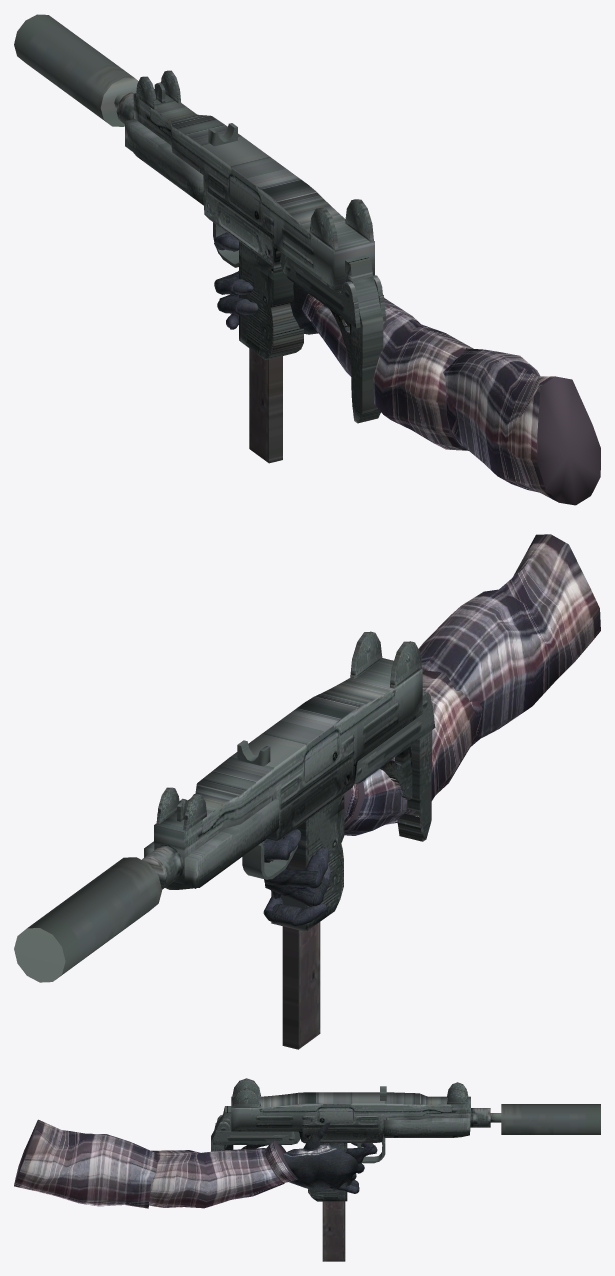
File: uzi_view.fbx
The picture shows the model from 3 angles, top to bottom: view 1: azimuth 30°, elevation 25°; view 2: azimuth 150°, elevation 25°; view 3: azimuth 270°, elevation 25°; orthographic projection. The views are drawn at different scales.
Parts seen in each view (by area): view 1: uzi_body, rupperarm, rforearm, uzi_silencer, uzi_grip, uzi_pad, uzi_clip, uzi_frontgrip, uzi_stocksupport, uzi_frontsight; view 2: uzi_body, rupperarm, uzi_silencer, rforearm, uzi_clip, uzi_frontgrip, uzi_grip, uzi_pad, uzi_stocksupport, uzi_frontsight, uzi_barrel, uzi_trigger (+2 smaller); view 3: uzi_body, rupperarm, rforearm, uzi_silencer, rhand, uzi_frontgrip, uzi_clip, uzi_stocksupport, uzi_grip, uzi_barrel, uzi_frontsight, rthumbback (+2 smaller).
Boxes of the visible parts, bbox=[...] form: uzi_body: bbox=[133, 89, 374, 292]; rupperarm: bbox=[443, 348, 600, 505]; rforearm: bbox=[302, 293, 473, 450]; uzi_silencer: bbox=[14, 14, 138, 126]; uzi_grip: bbox=[239, 241, 303, 360]; uzi_pad: bbox=[345, 255, 383, 423]; uzi_clip: bbox=[249, 348, 282, 463]; uzi_frontgrip: bbox=[125, 119, 203, 205]; uzi_stocksupport: bbox=[280, 253, 386, 328]; uzi_frontsight: bbox=[136, 70, 181, 109]; uzi_body: bbox=[154, 631, 422, 884]; rupperarm: bbox=[419, 534, 600, 746]; uzi_silencer: bbox=[14, 857, 161, 982]; rforearm: bbox=[344, 670, 476, 835]; uzi_clip: bbox=[282, 922, 320, 1049]; uzi_frontgrip: bbox=[144, 799, 278, 889]; uzi_grip: bbox=[271, 793, 344, 931]; uzi_pad: bbox=[397, 730, 432, 841]; uzi_stocksupport: bbox=[354, 690, 435, 784]; uzi_frontsight: bbox=[156, 787, 206, 831]; uzi_barrel: bbox=[142, 844, 184, 889]; uzi_trigger: bbox=[242, 838, 297, 879]; uzi_body: bbox=[231, 1078, 470, 1143]; rupperarm: bbox=[14, 1119, 157, 1208]; rforearm: bbox=[149, 1140, 297, 1208]; uzi_silencer: bbox=[501, 1104, 600, 1134]; rhand: bbox=[282, 1147, 359, 1190]; uzi_frontgrip: bbox=[383, 1118, 469, 1137]; uzi_clip: bbox=[322, 1201, 345, 1261]; uzi_stocksupport: bbox=[213, 1114, 300, 1144]; uzi_grip: bbox=[308, 1143, 347, 1201]; uzi_barrel: bbox=[470, 1108, 501, 1127]; uzi_frontsight: bbox=[447, 1082, 468, 1104]; rthumbback: bbox=[303, 1130, 343, 1151].
Bounding box in the file's own units: 5.15 × 13.68 × 41.38.
3 materials, 3 textured.
